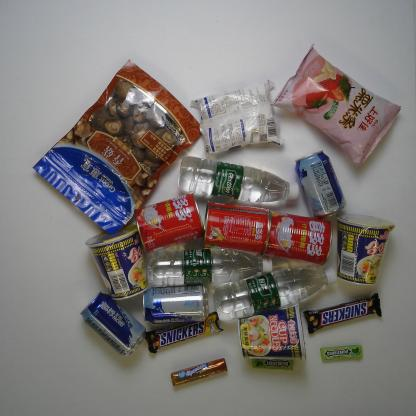Alcohol: (78, 289, 148, 358), (293, 148, 347, 220), (141, 284, 210, 325)
Candy: (169, 356, 229, 390)
Canned Food: (133, 191, 206, 256), (260, 208, 333, 267), (201, 200, 271, 257)
Chocolate: (143, 310, 225, 354), (302, 292, 384, 334)
Dried Food: (30, 56, 204, 236)
Drink: (211, 264, 339, 324), (175, 154, 300, 205), (146, 246, 274, 289)
Gum: (250, 353, 296, 373), (320, 344, 364, 363)
Instant Noodles: (84, 221, 150, 301), (334, 211, 396, 287), (236, 302, 308, 364)
Puffed Food: (268, 41, 404, 170)
Seasoner: (190, 77, 286, 158)
